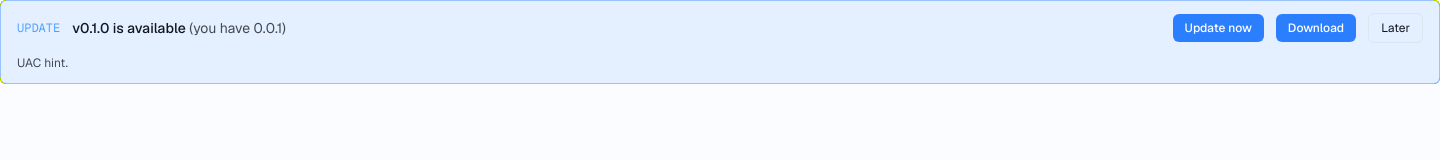
Scenario: UpdateBanner watchdog › flips from 'updating' to a timeout/retry state if the swap never completes
This screenshot has width=1440, height=160.
Click the button "Update now" at x=1218, y=28, box [1173,14,1264,42]
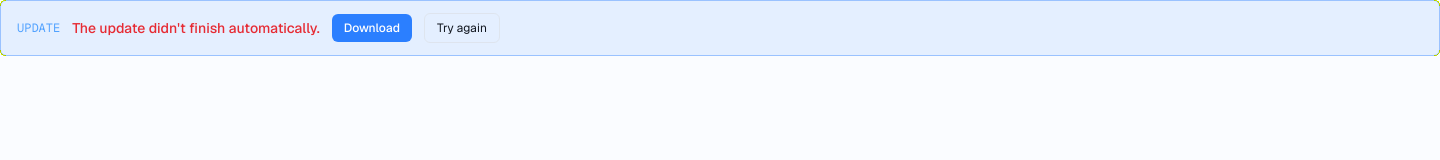
Result: the element with test id "update-banner-timeout" is shown at [72,13,500,43]
Retry resets back to the actionable banner.
Click the button "Try again" at x=462, y=28, box [424,13,500,43]
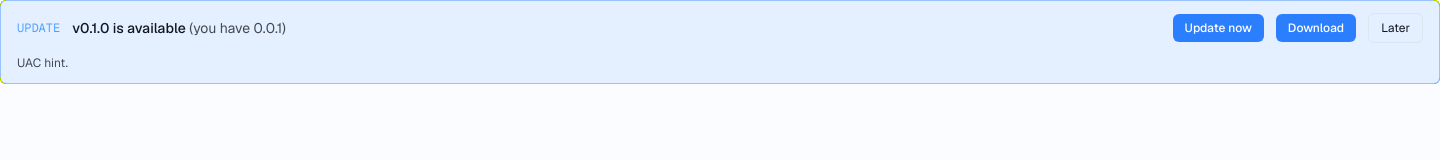
Result: the button "Update now" is shown at [1173,14,1264,42]
